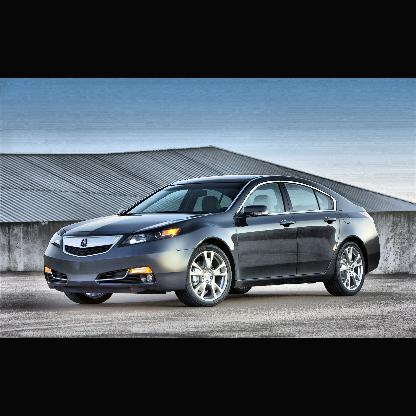Acura TL Sedan 2012: (40, 171, 397, 315)
